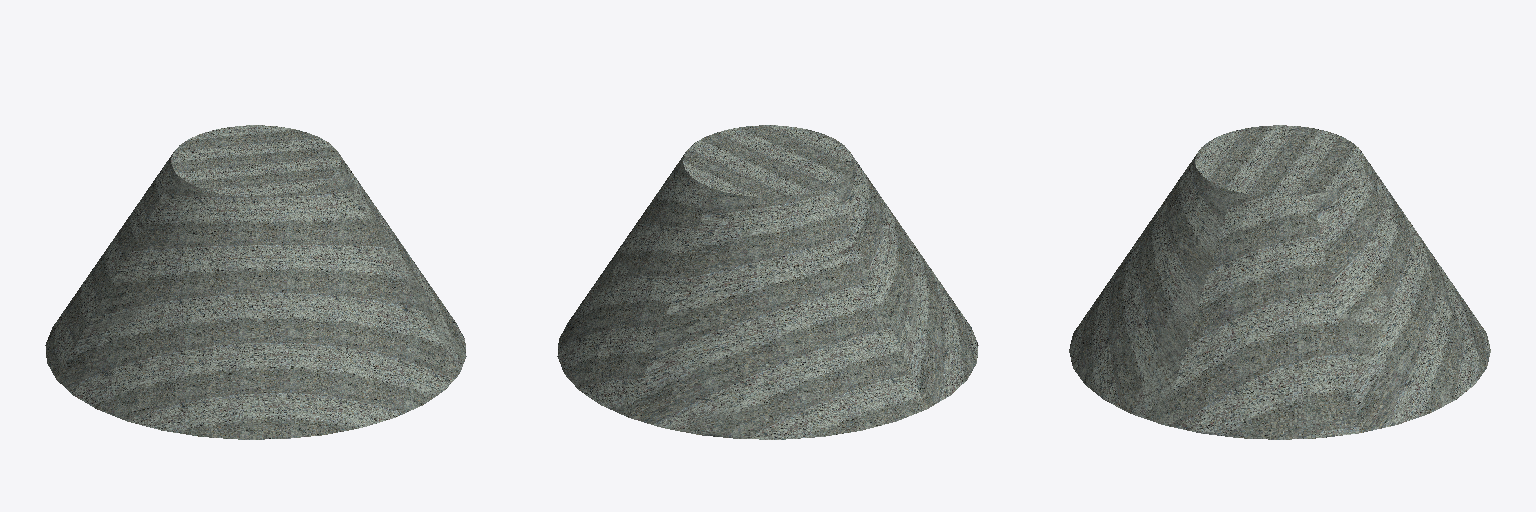
The picture shows the model from 3 angles: view 1: azimuth 30°, elevation 25°; view 2: azimuth 150°, elevation 25°; view 3: azimuth 270°, elevation 25°; orthographic projection.
Parts seen in each view (by area): view 1: Cylinder; view 2: Cylinder; view 3: Cylinder.
Boxes of the visible parts, x1,y1,x2,y2 form: Cylinder: [45, 125, 466, 439]; Cylinder: [557, 125, 978, 439]; Cylinder: [1069, 125, 1490, 439].
Bounding box in the file's own units: 2.57 × 1.27 × 2.57.
1 materials, 1 textured.